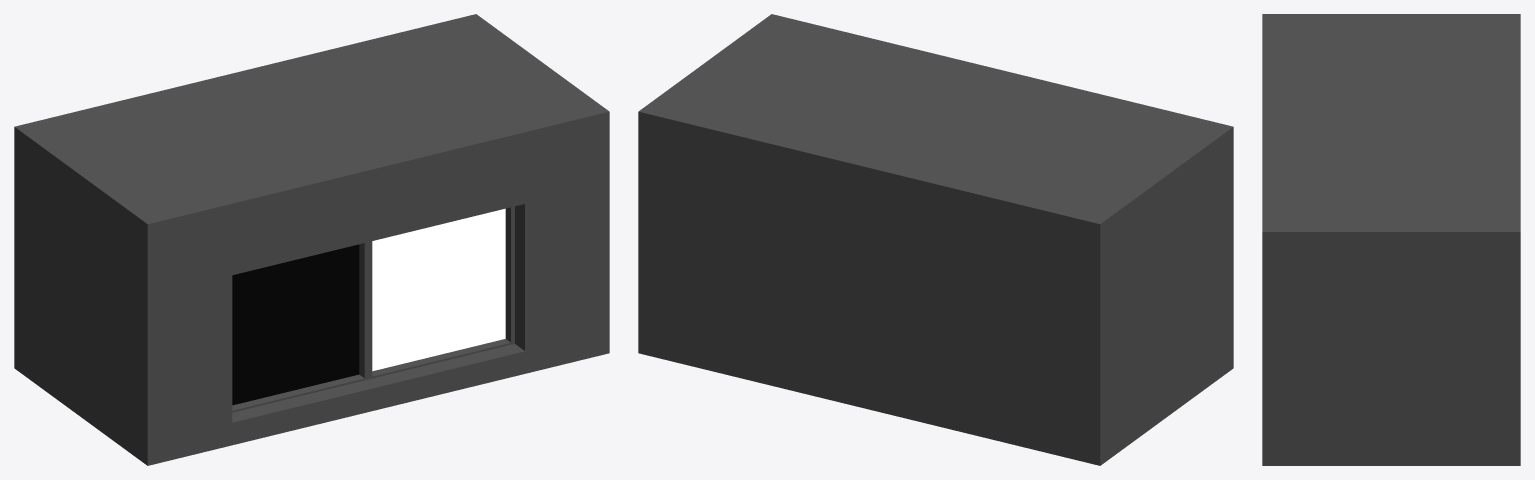
File: GrandMilieu.fbx
3 views of the same model, side by side, from view 1: azimuth 30°, elevation 25°; view 2: azimuth 150°, elevation 25°; view 3: azimuth 270°, elevation 25° (orthographic). The views are drawn at different scales.
Parts seen in each view (by area): view 1: Cube.118; view 2: Cube.118; view 3: Cube.118.
Part boxes in pixels (left/top/right/bottom): Cube.118: left=14, top=14, right=609, bottom=465; Cube.118: left=638, top=14, right=1233, bottom=465; Cube.118: left=1262, top=14, right=1520, bottom=465.
Size of the model in its own units: 4000 by 2000 by 2000.
